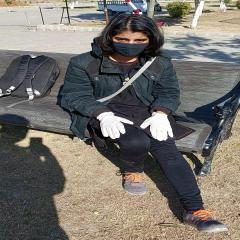gloved: (96, 112, 131, 139), (143, 112, 174, 140)
